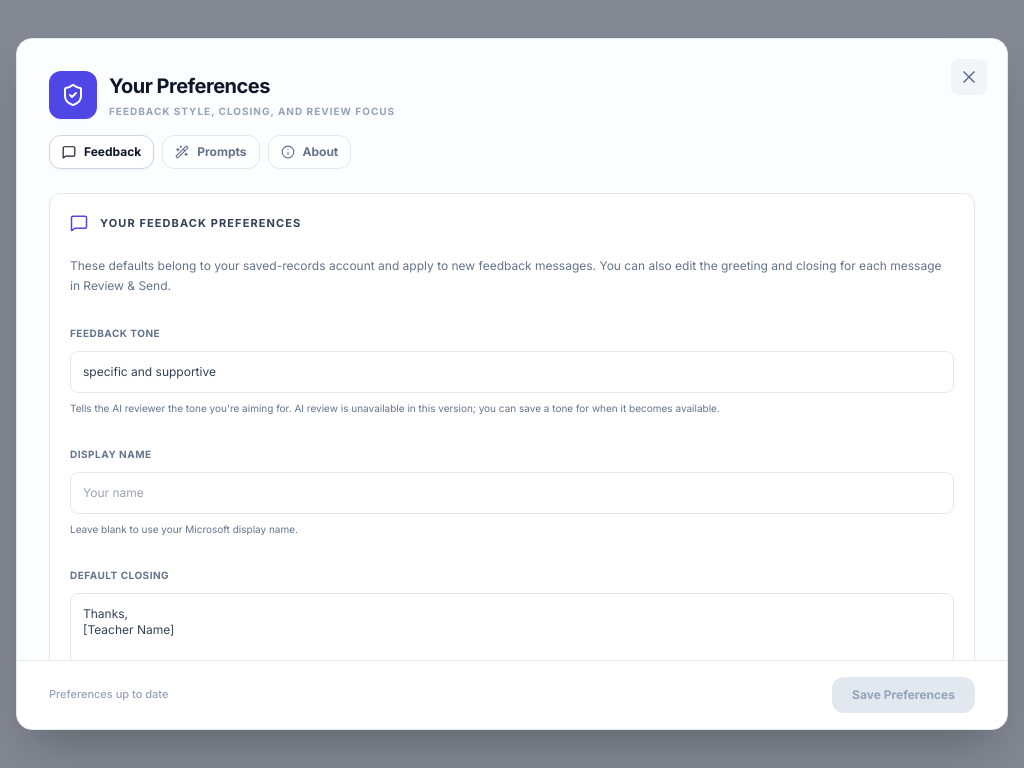
it: review focus settings › shows earlier custom drafting text read-only, never as review focus
Click the button "Prompts" at (211, 152), box [162, 135, 260, 169]
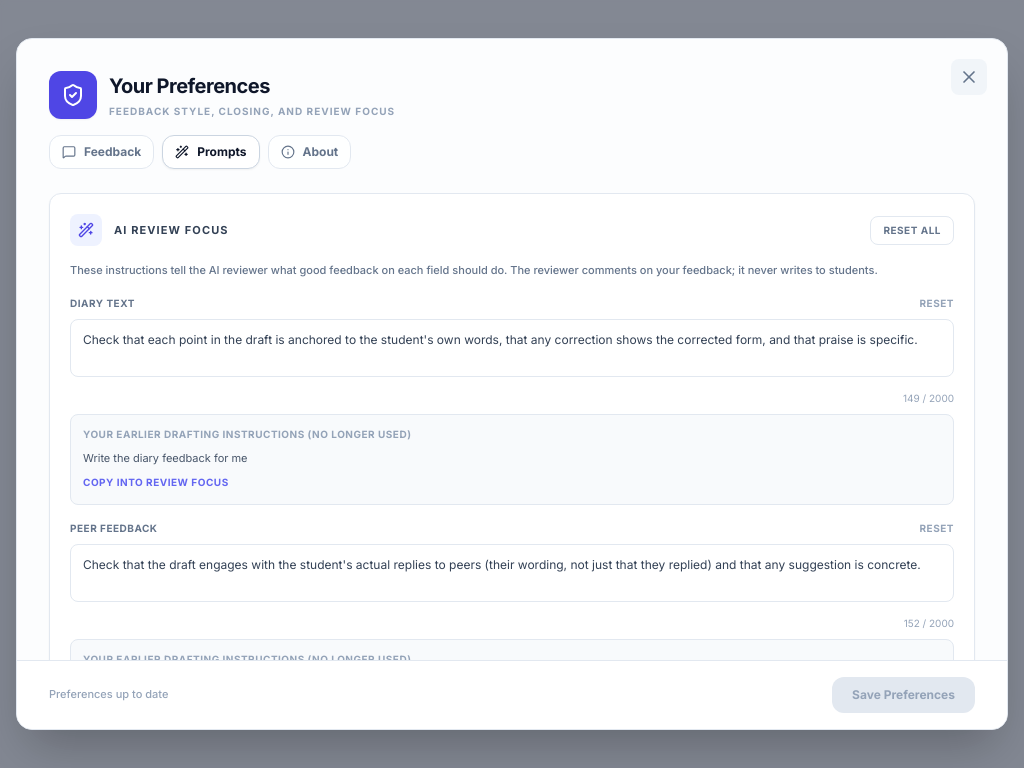
Check: the text "Your earlier drafting instructions (no longer used)" is shown, box [83, 428, 411, 440]
Check: the text "Write the diary feedback for me" is shown, box [83, 451, 248, 465]
Check: the text box with id "settings-review-focus-diaryText" holds "Check that each point in the draft is anchored to the student's own words, that any correction shows the corrected form, and that praise is specific.", box [70, 319, 954, 377]
